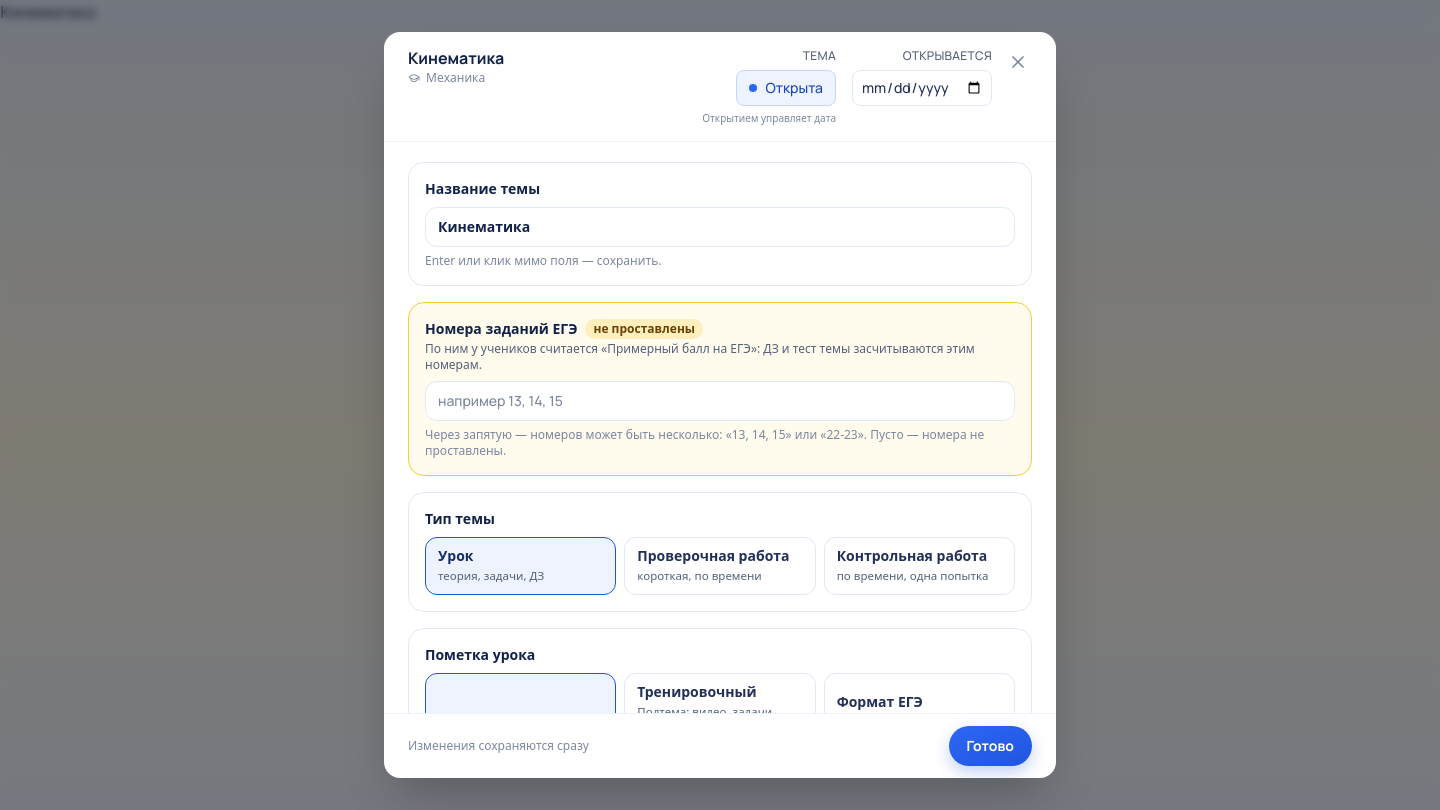
it: Название темы в окне темы (§258) › Escape — возвращает прежнее название без записи
The width and height of the screenshot is (1440, 810).
Replace the text in the field with test id "topic-title-input" with "Черновик" at (720,227), box [425, 207, 1015, 247]
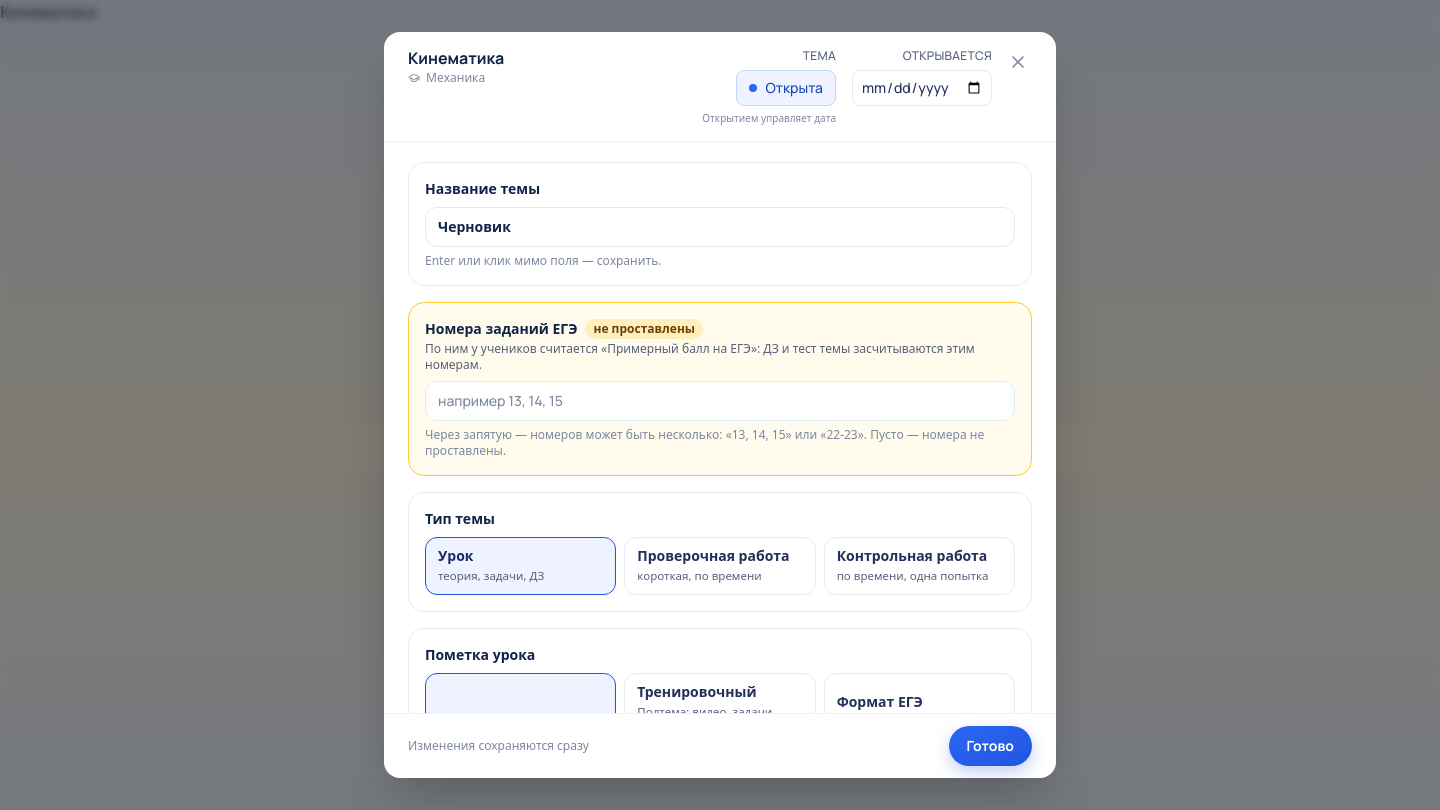
Press Escape in the field with test id "topic-title-input", box [425, 207, 1015, 247]
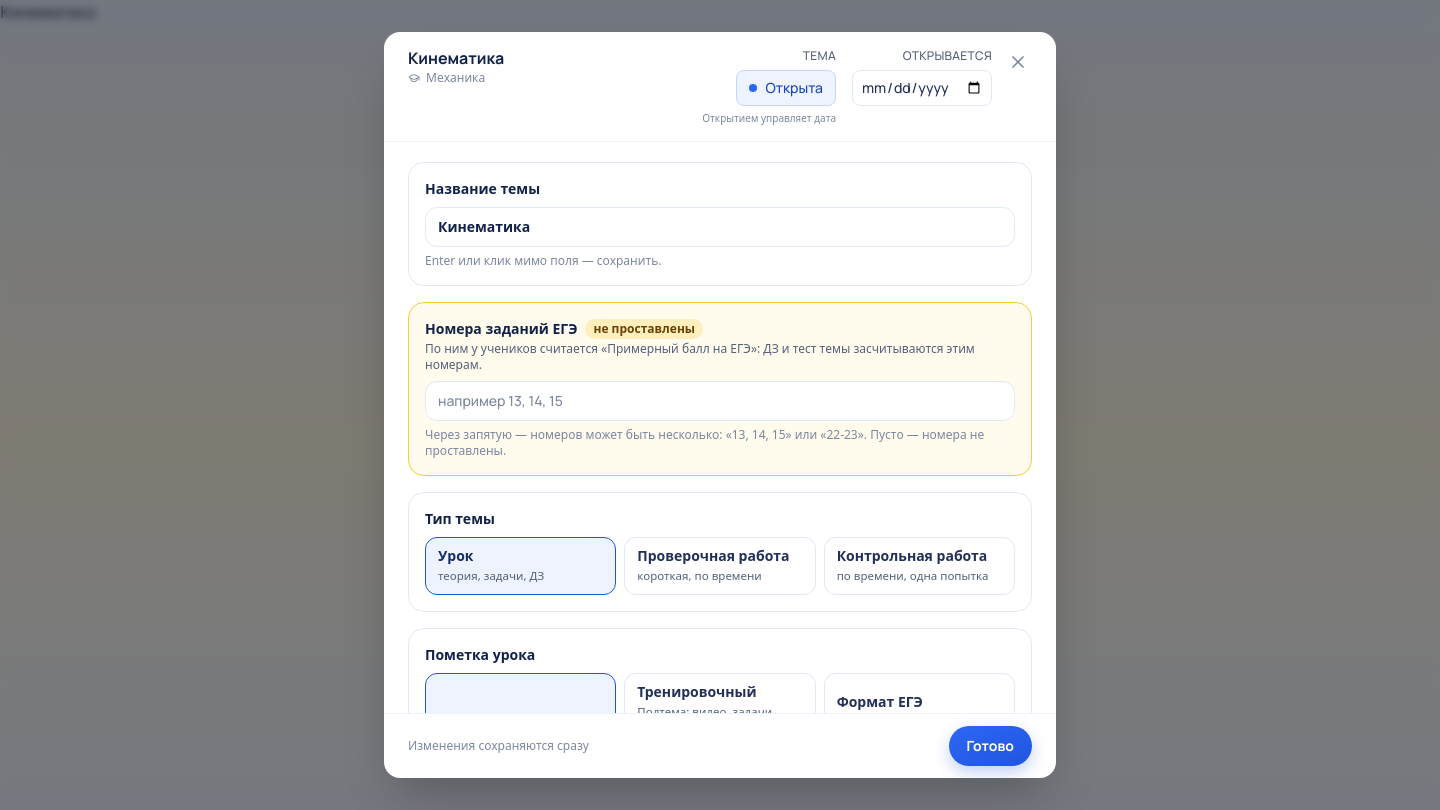
Now the field with test id "topic-title-input" holds "Кинематика", box [425, 207, 1015, 247]
